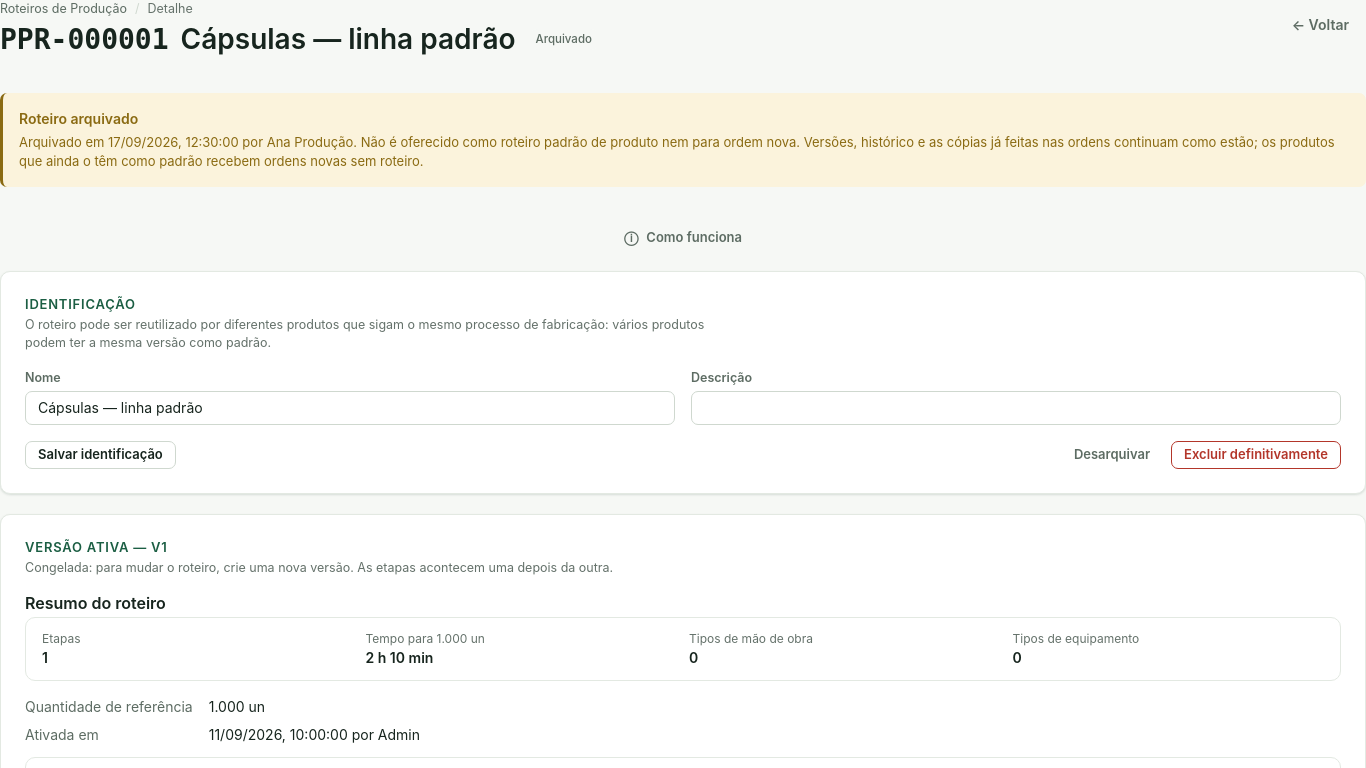
Test: Roteiro de Produção — Arquivar e Desarquivar › Desarquivar grava direto e devolve o roteiro às escolhas de padrão
Expected: the heading "PPR-000001 Cápsulas — linha padrão Arquivado" is shown, [0,22,600,57]
Expected: the button "Definir V1 como padrão" is not shown
Click the button "Desarquivar".
click(1112, 455)  # box [1061,441,1163,469]
(page scrolled)
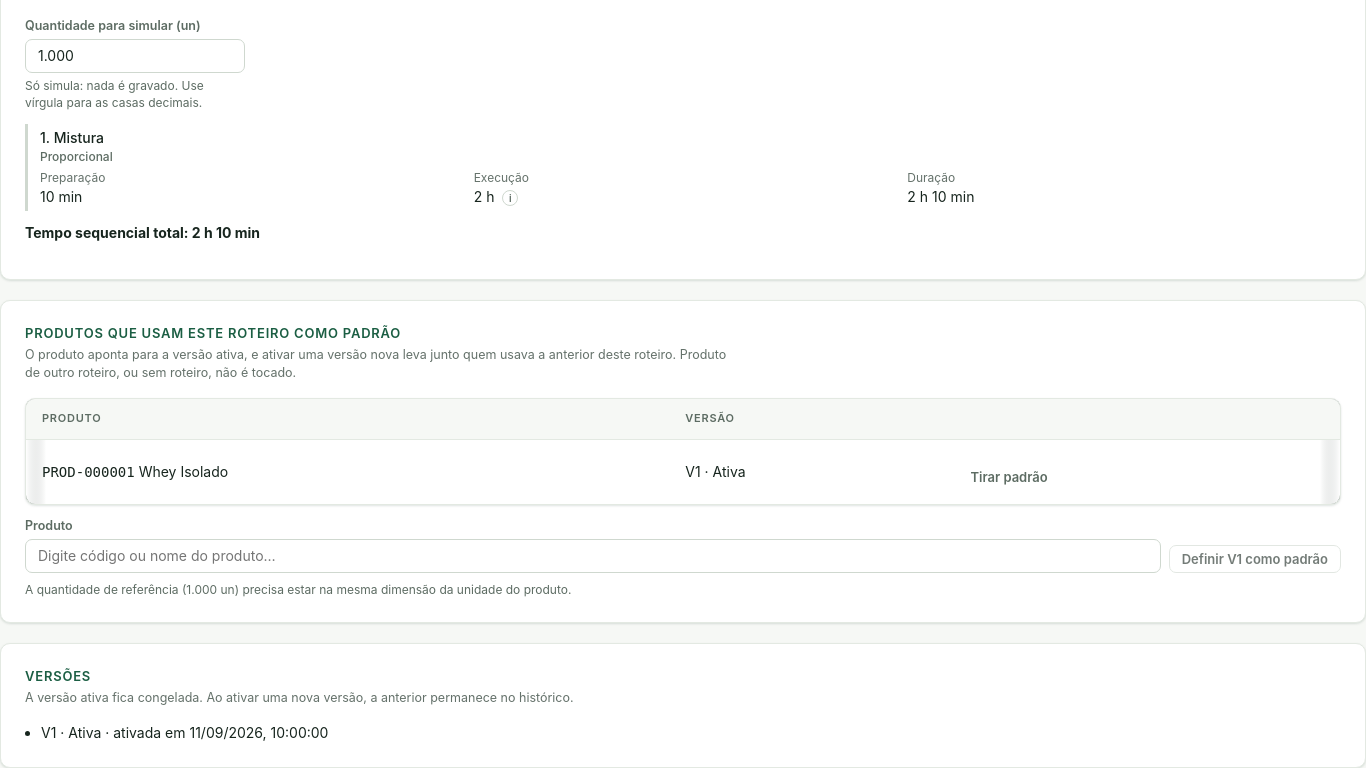
Expected: the text "Arquivado" is not shown
Expected: the button "Definir V1 como padrão" is shown, [1169,545,1341,573]
